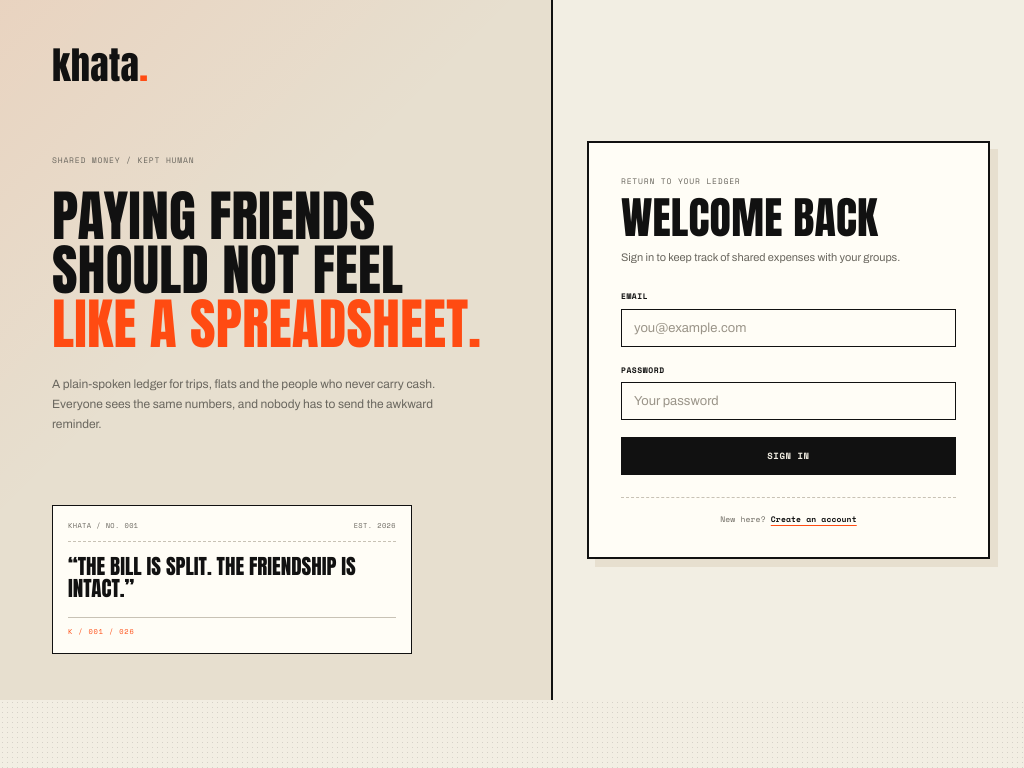
Test: Login page › shows a validation message when the form is empty
Click the button "Sign in" at [788, 456], box [621,437,956,475]
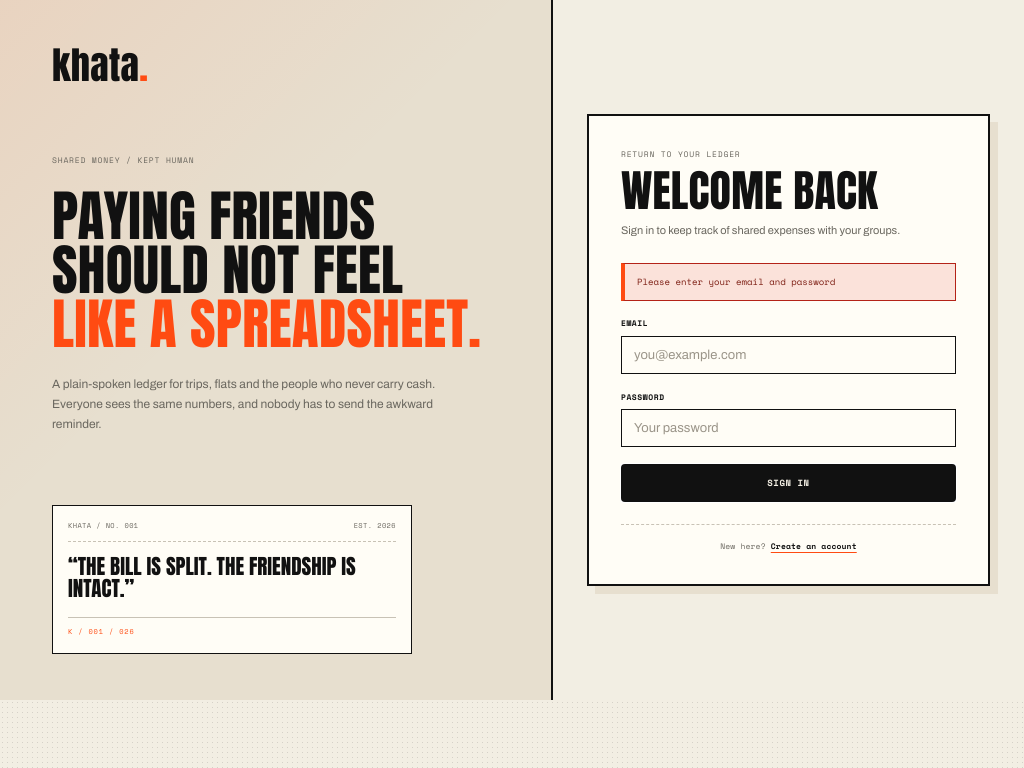
expect the text "Please enter your email and password" is shown: met, box [621,263,956,301]
